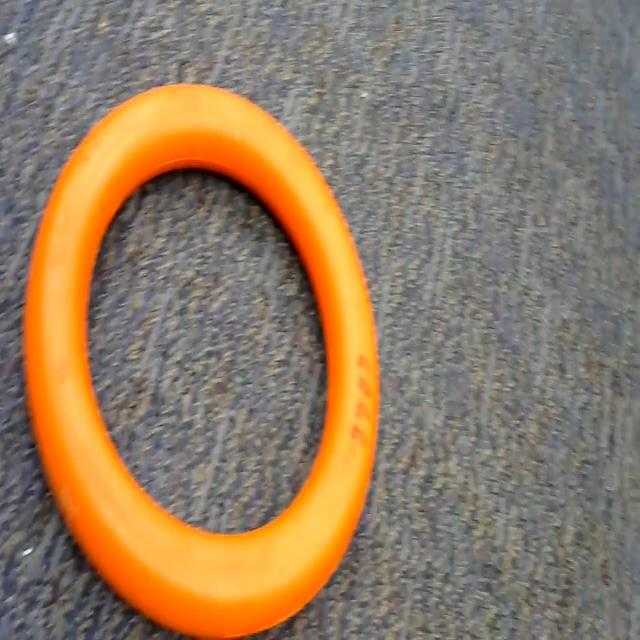note: (10, 76, 389, 640)
